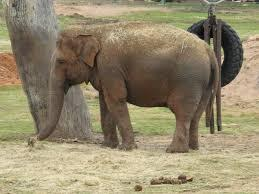elephant: (37, 22, 219, 152)
